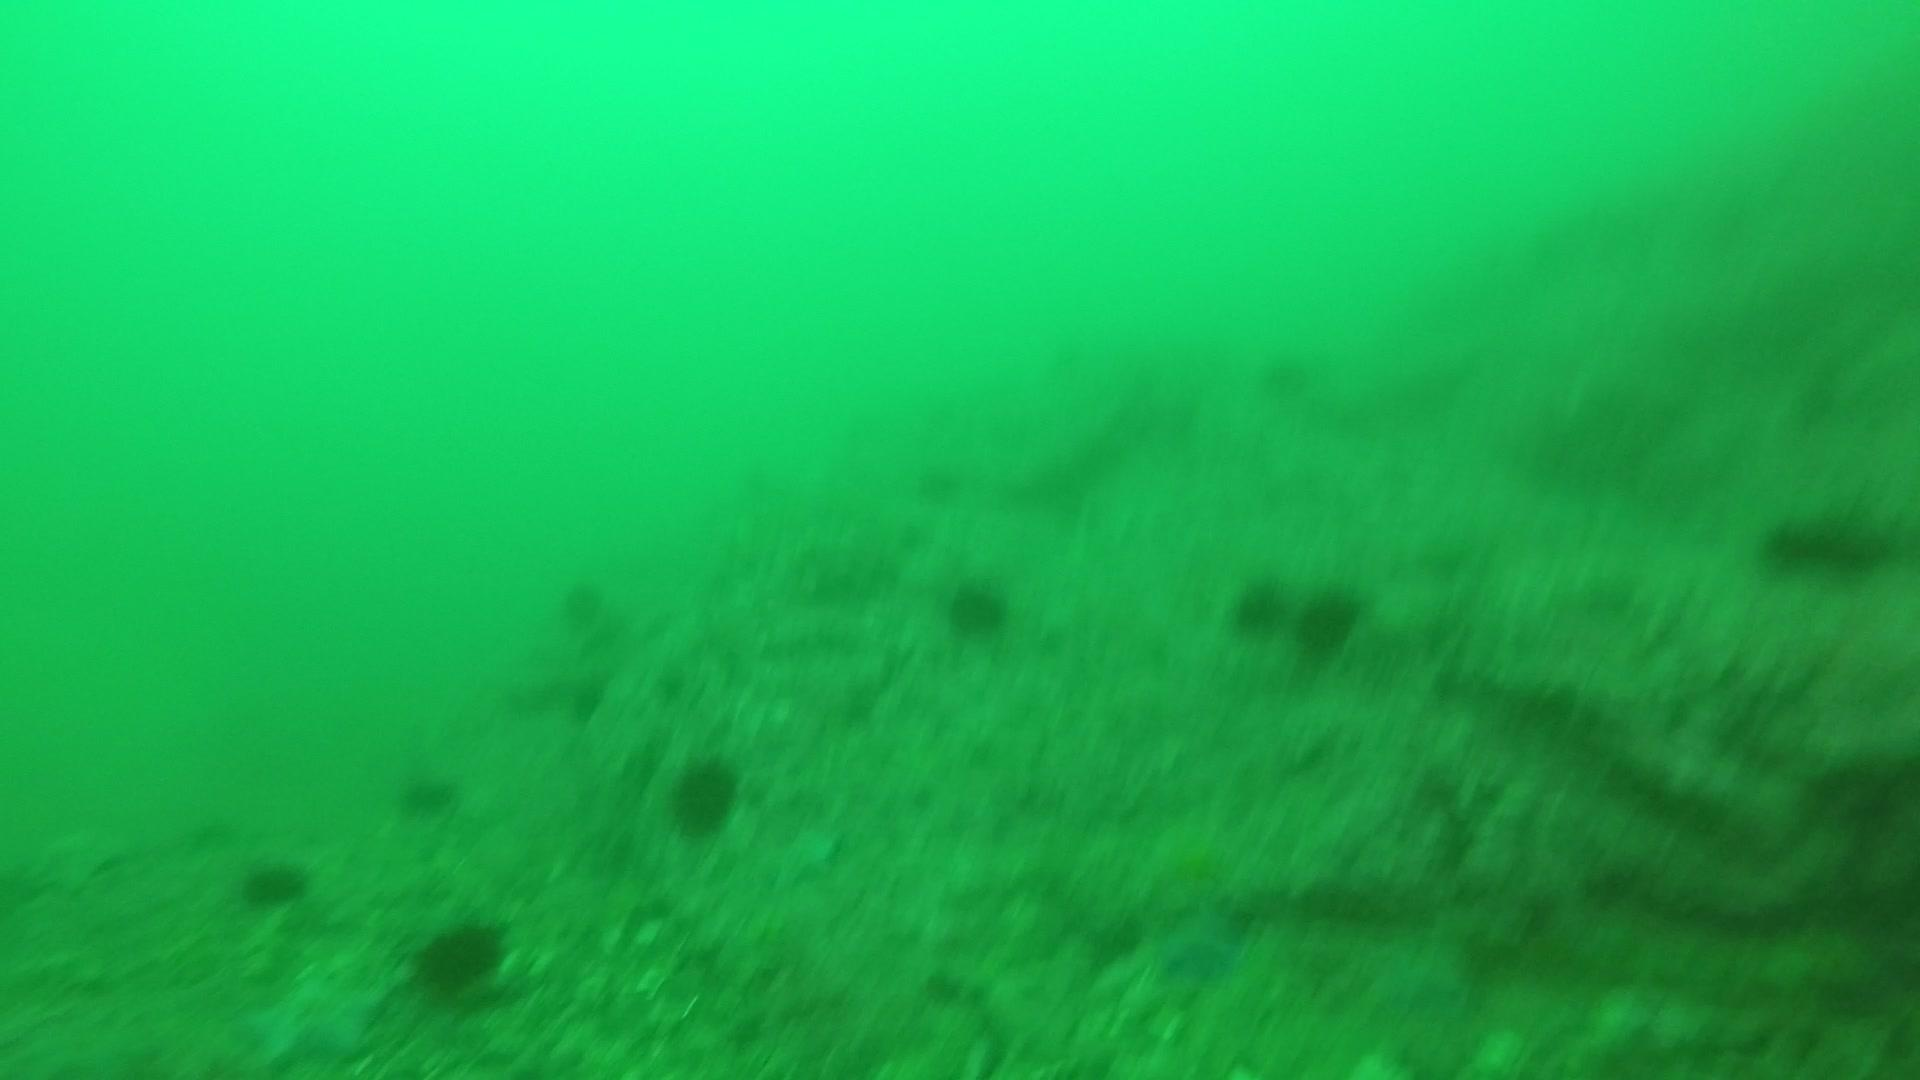echinus: (1759, 493, 1905, 582), (407, 911, 513, 1000), (663, 752, 746, 841), (1287, 578, 1367, 659), (940, 572, 1015, 641), (891, 458, 967, 526), (1250, 338, 1325, 406), (235, 851, 313, 913), (1224, 571, 1292, 640), (393, 762, 464, 822), (553, 574, 612, 632), (559, 671, 618, 729)
starfish: (237, 963, 388, 1072), (1137, 808, 1245, 916), (1143, 898, 1251, 989), (769, 818, 845, 891)
